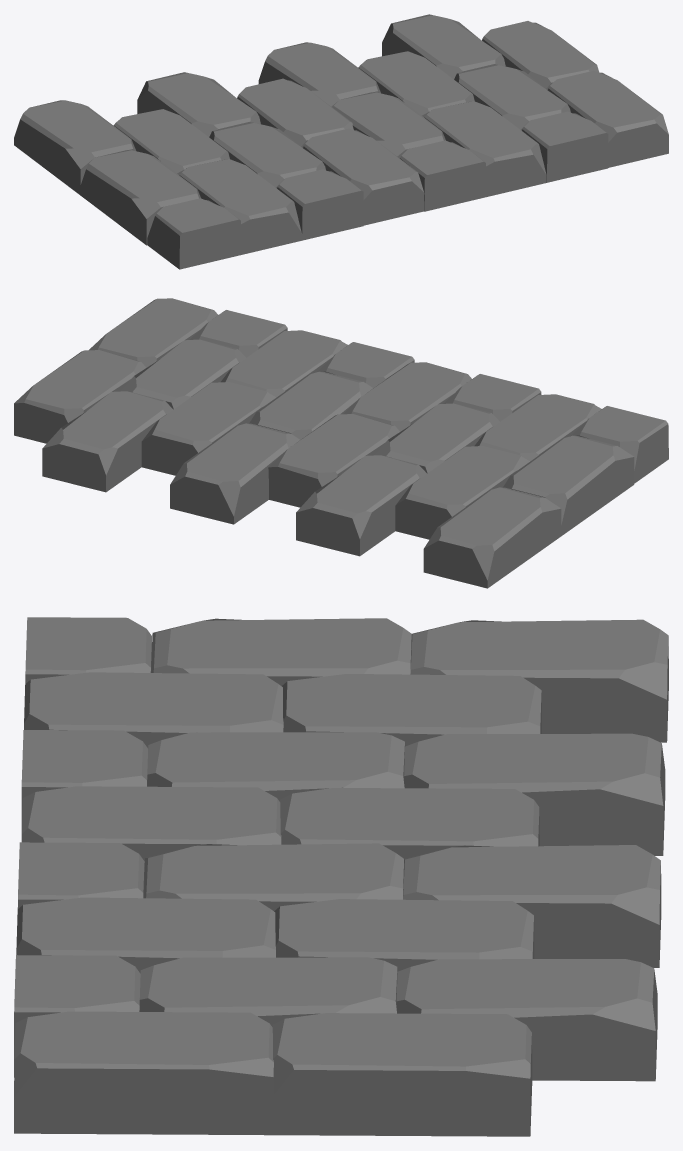
Rendered from Garden Walkway End.fbx.
The picture shows the model from 3 angles, top to bottom: view 1: azimuth 30°, elevation 25°; view 2: azimuth 150°, elevation 25°; view 3: azimuth 270°, elevation 25°; orthographic projection. The views are drawn at different scales.
Visible parts, largest first — view 1: Garden Walkway End; view 2: Garden Walkway End; view 3: Garden Walkway End.
Part boxes in pixels (left/top/right/bottom): Garden Walkway End: left=14, top=14, right=668, bottom=269; Garden Walkway End: left=14, top=298, right=668, bottom=588; Garden Walkway End: left=14, top=617, right=668, bottom=1136.
Size of the model in its own units: 205 by 125 by 14.42.
